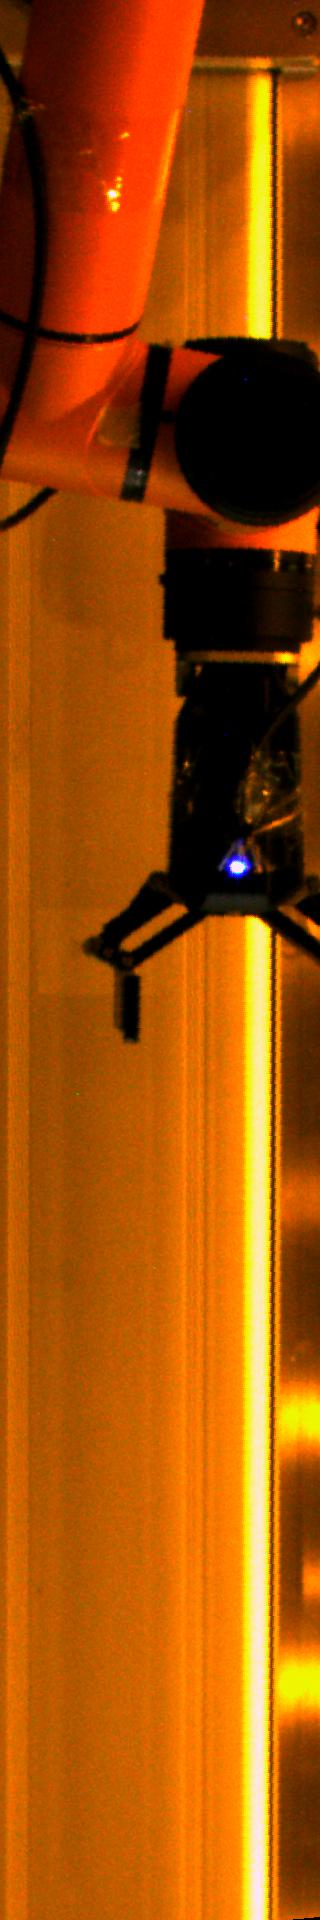keyPoint_1: (223, 851, 253, 880)
